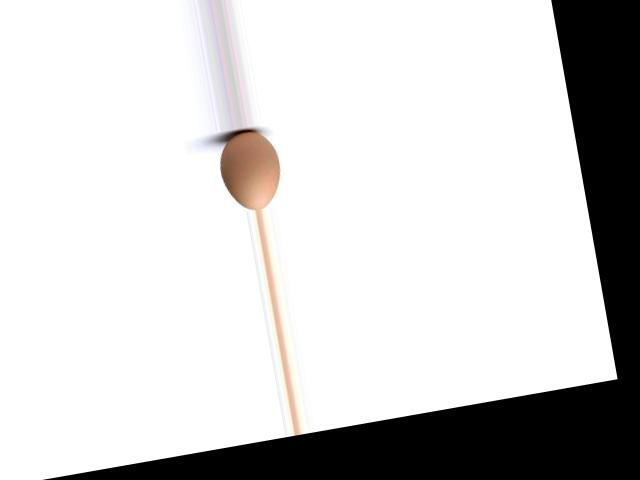egg: (215, 126, 286, 213)
